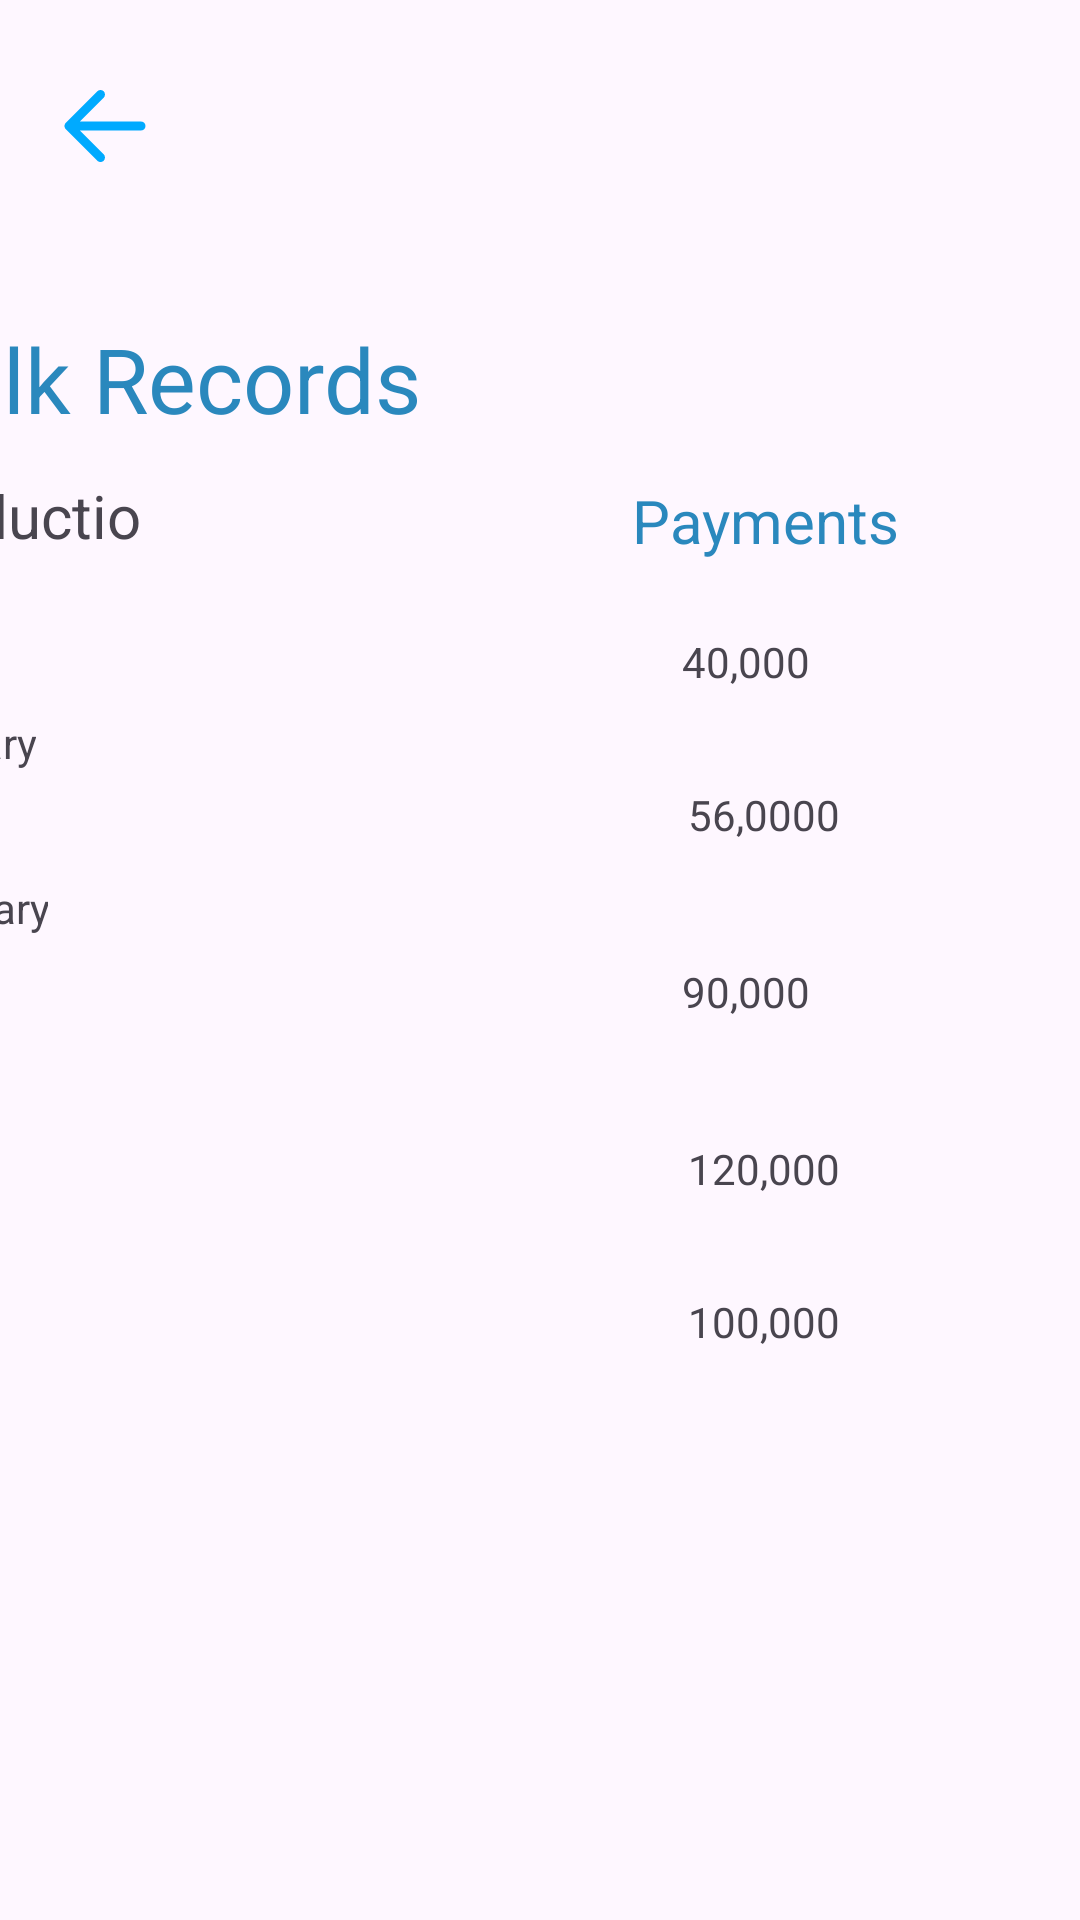

Screen size 1080 x 1920. Icon name, then its center in pixels as [x,y]:
arrow: [105,126]
